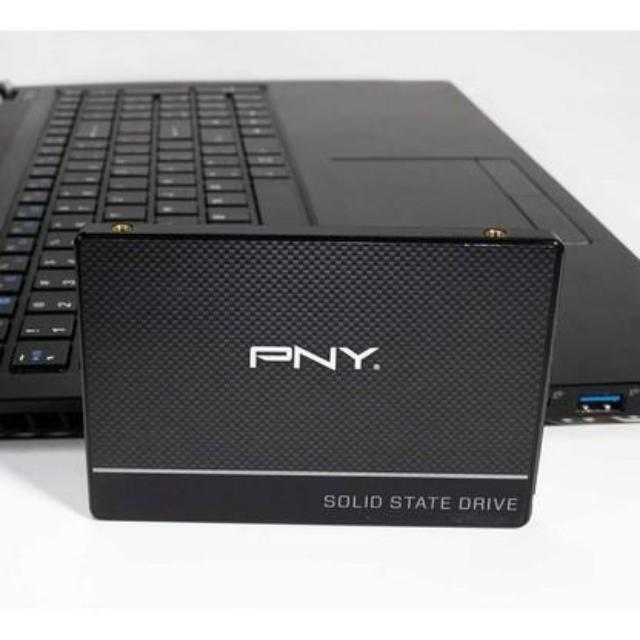DISK: (80, 226, 566, 529)
